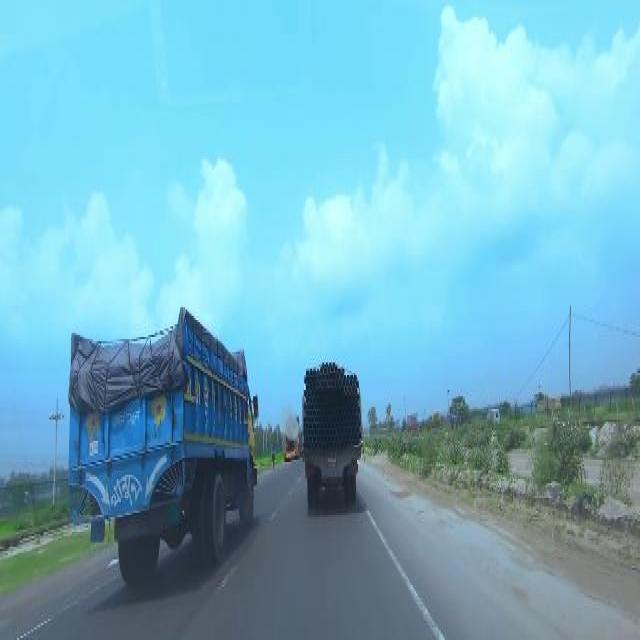vehicle: (67, 309, 259, 581), (301, 357, 364, 508)
